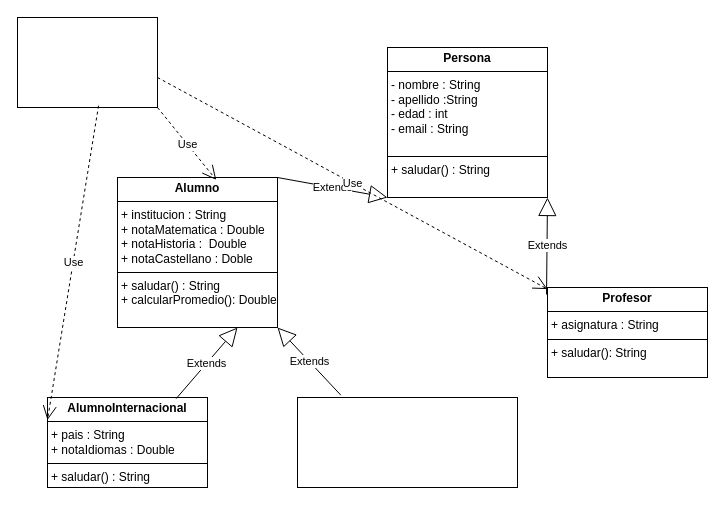
This 725x515 diagram has some shape labels left out. The shapes that lost their labels are listed below. From the top down, each one's box as (x1, y1, x2, y2) in pixels, then its label:
(16, 16, 158, 108): EjemploHerencia + main(args : String[]
(296, 396, 518, 488): AlumnoInternacionalDiplomatico + field: Type + method(): Type
